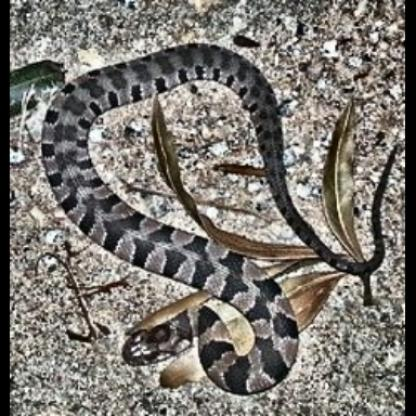Snake: (45, 29, 398, 398)
